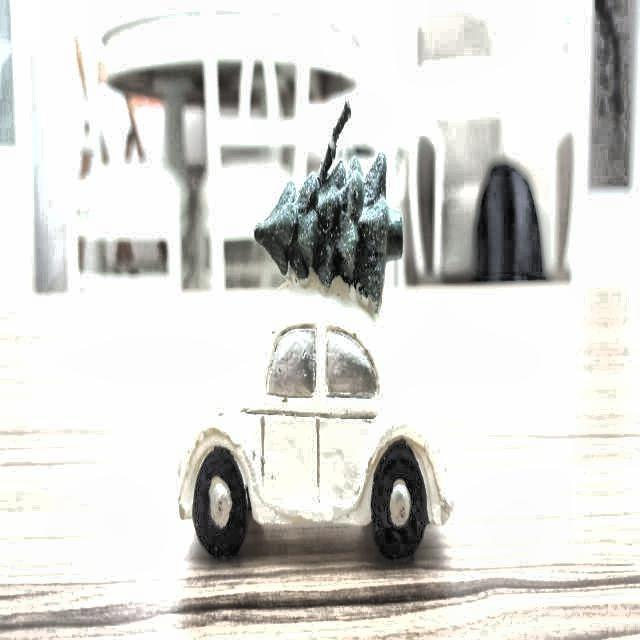carro: (158, 288, 450, 554)
